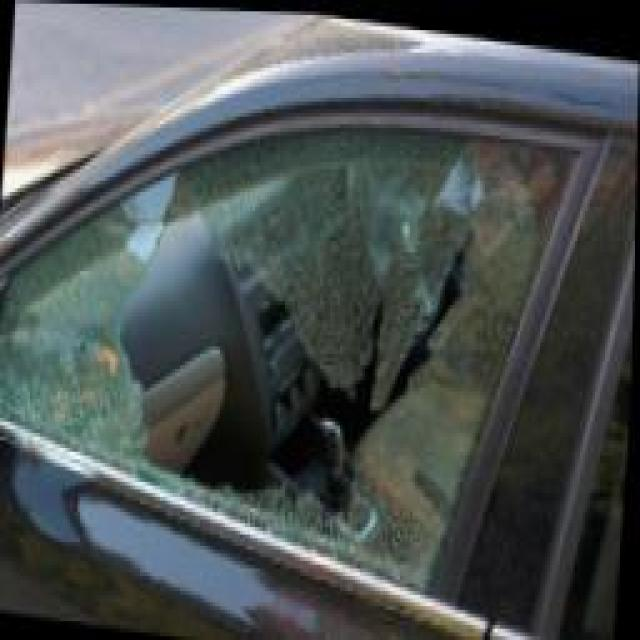Door: (0, 53, 574, 640)
